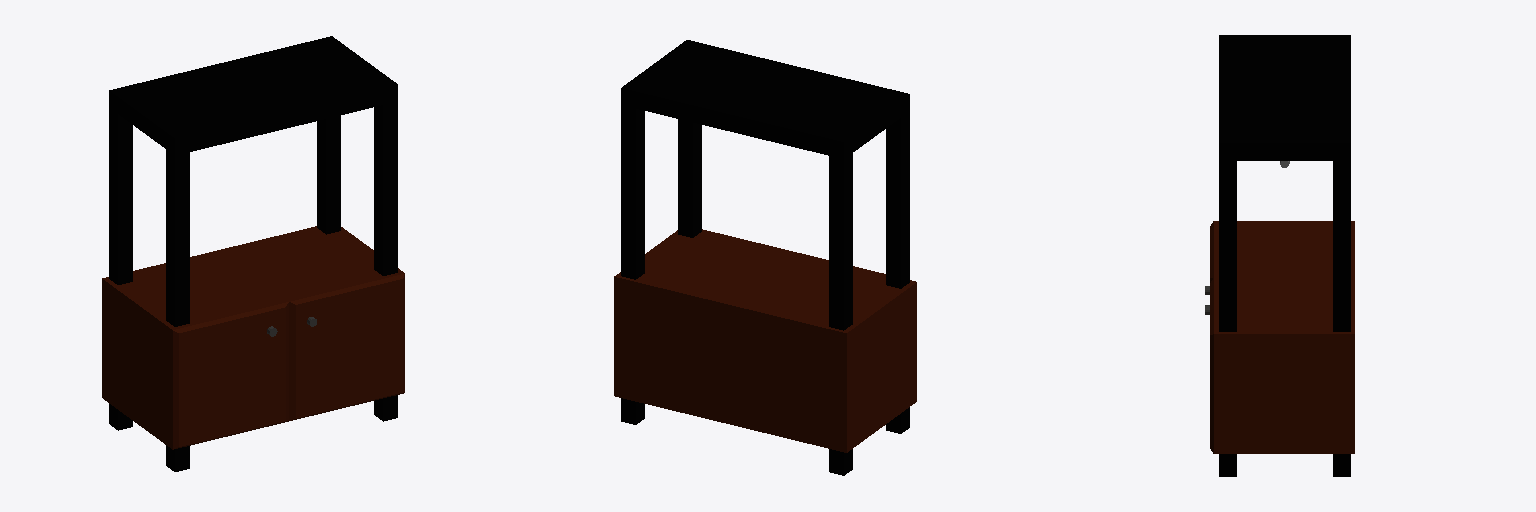
Rendered from wardrobe.obj.
3 views of the same model, side by side, from view 1: azimuth 30°, elevation 25°; view 2: azimuth 150°, elevation 25°; view 3: azimuth 270°, elevation 25° (orthographic).
Visible parts, largest first — view 1: Plane; view 2: Plane; view 3: Plane.
Part boxes in pixels (bbox=[...]): Plane: bbox=[102, 36, 404, 471]; Plane: bbox=[614, 40, 916, 475]; Plane: bbox=[1205, 35, 1354, 476].
Size of the model in its own units: 1.6 by 2.19 by 0.8926.